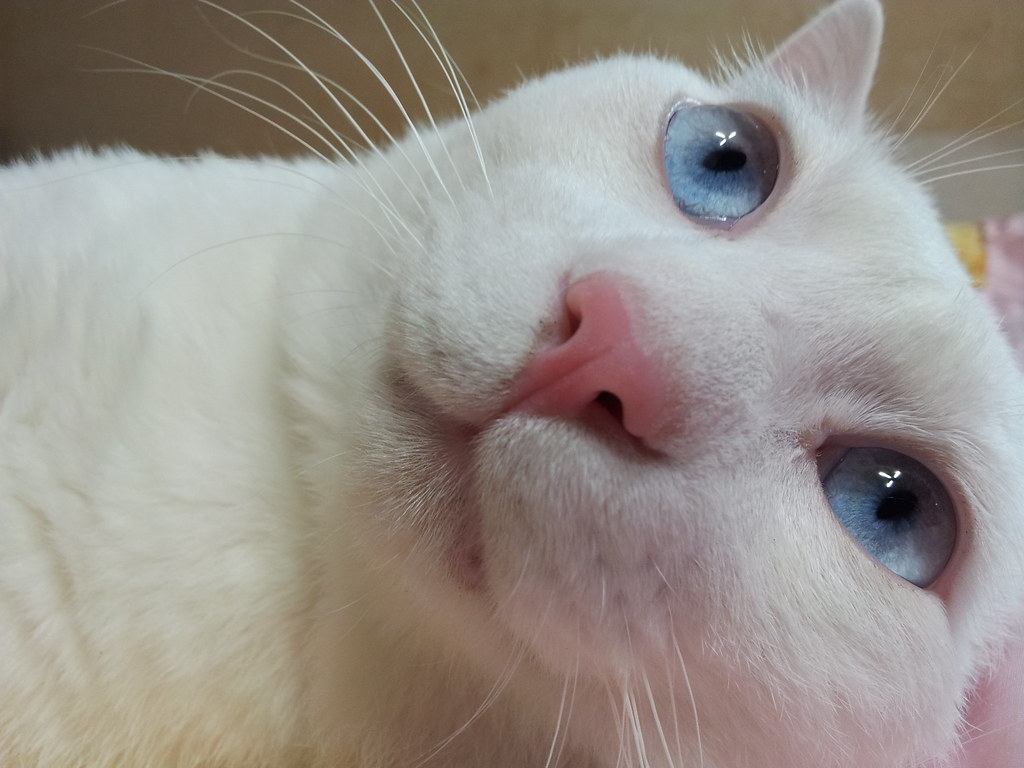cat-face: (205, 1, 1024, 756)
